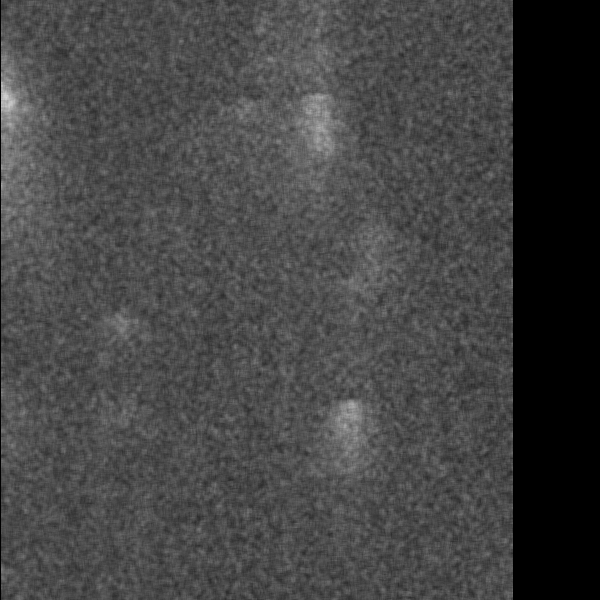spark: (334, 395, 368, 537), (302, 86, 337, 165), (110, 300, 127, 359)
